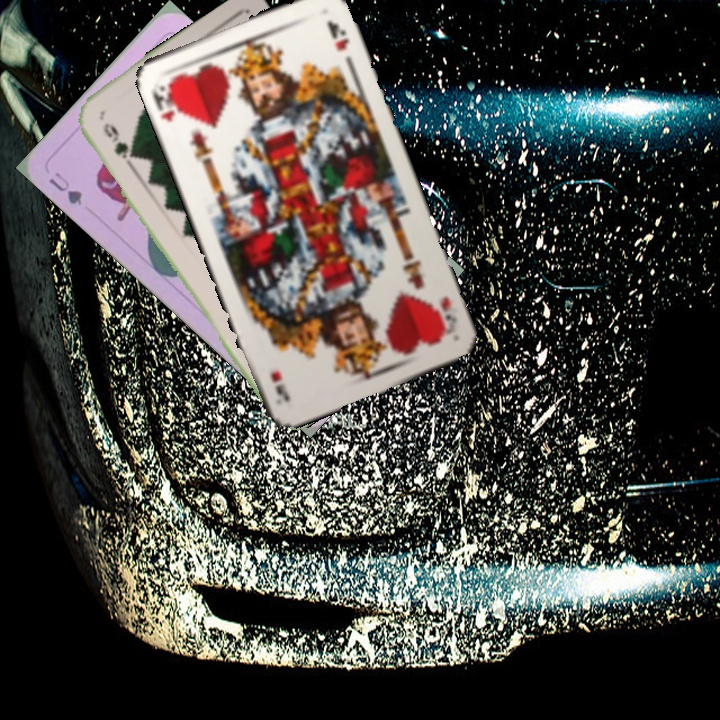G9: (99, 119, 137, 167)
GU: (44, 168, 85, 209)
HK: (147, 79, 184, 124), (430, 292, 460, 333)
